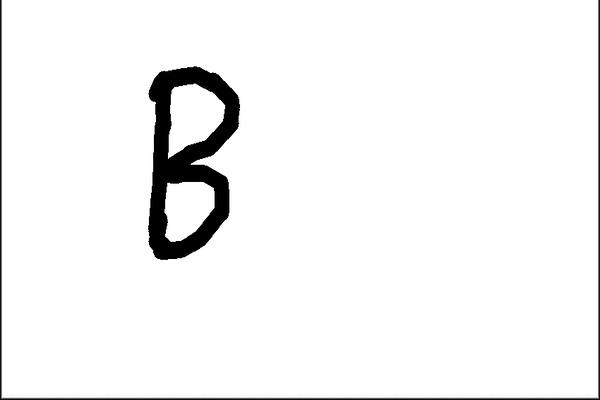B: (140, 61, 241, 263)
